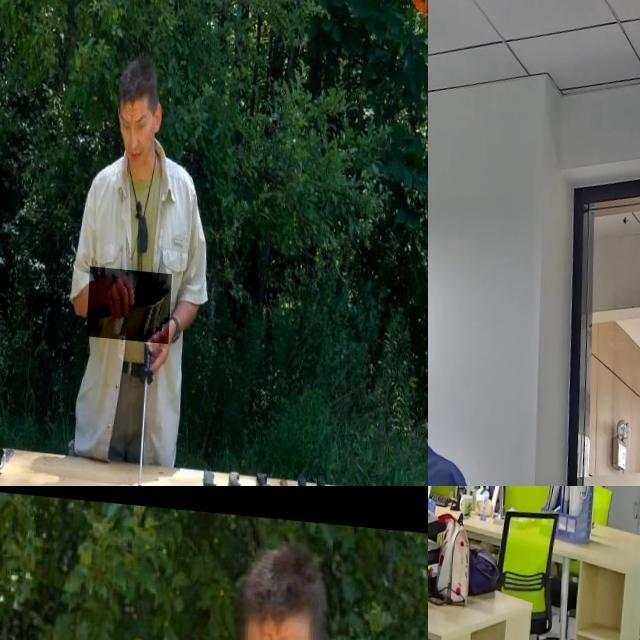-: (92, 261, 176, 337)
gun-knife-thesis - v11 Yolov5 augmented: (428, 301, 459, 432)
